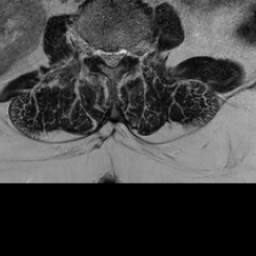CCS_stenosis: (107, 42, 116, 75)
LFS_normal: (125, 37, 136, 64)
LLS_normal: (116, 38, 125, 68)
RFS_normal: (89, 38, 99, 65)
RLS_normal: (99, 41, 107, 68)
